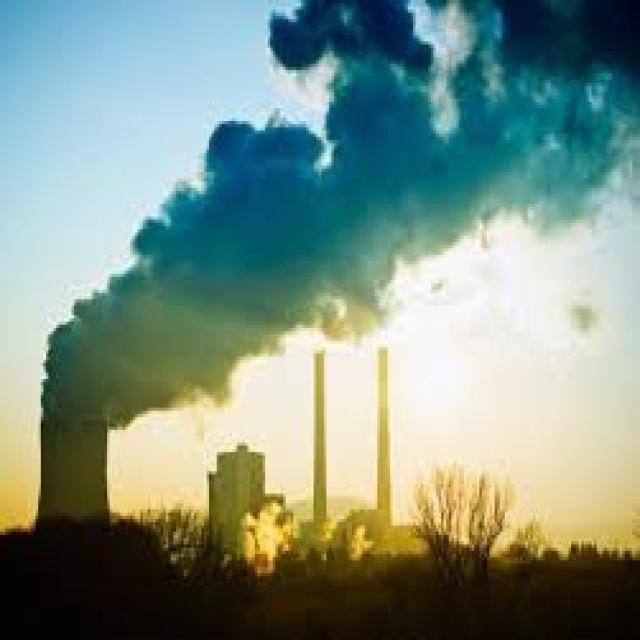Smoke: (41, 0, 640, 430)
